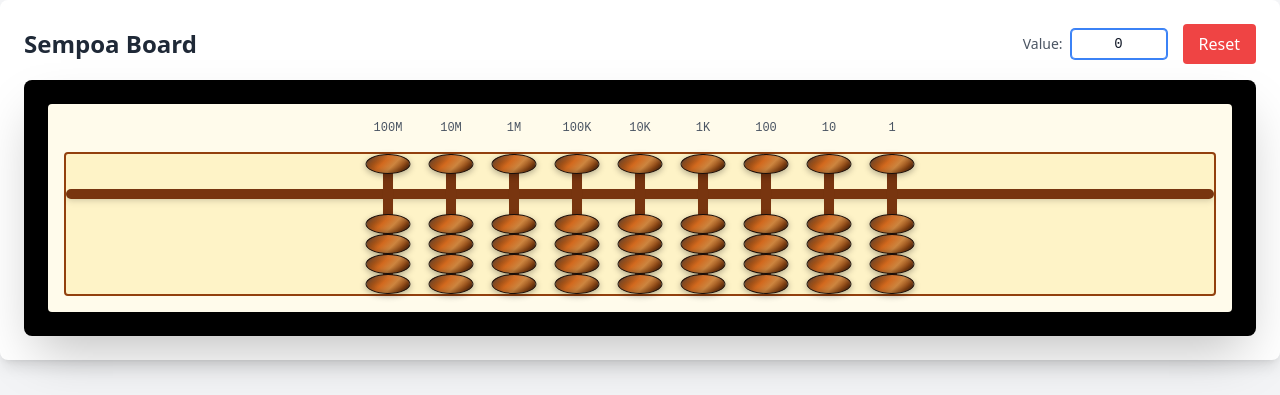
SempoaBoard - Abacus Behavior › Lower Beads Behavior › should move together when activating - clicking a bead activates all beads above it
// Reset the board to ensure initial state
What coordinates should you click on to do the following:
click the button "Reset"
I would click on:
 (1219, 44)
Its box is [1182,24,1256,64].
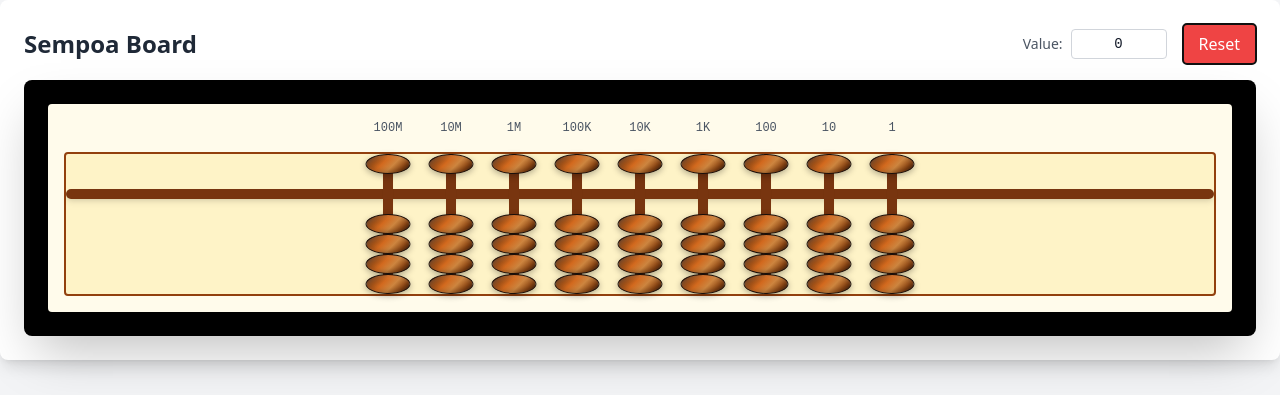
// Click on the 3rd lower bead (index 2, should activate beads 0, 1, 2)
What coordinates should you click on to do the following:
click the button named "Bead in column 1, row 3, inactive"
I would click on:
 (388, 264)
Its box is [366,254,410,274].
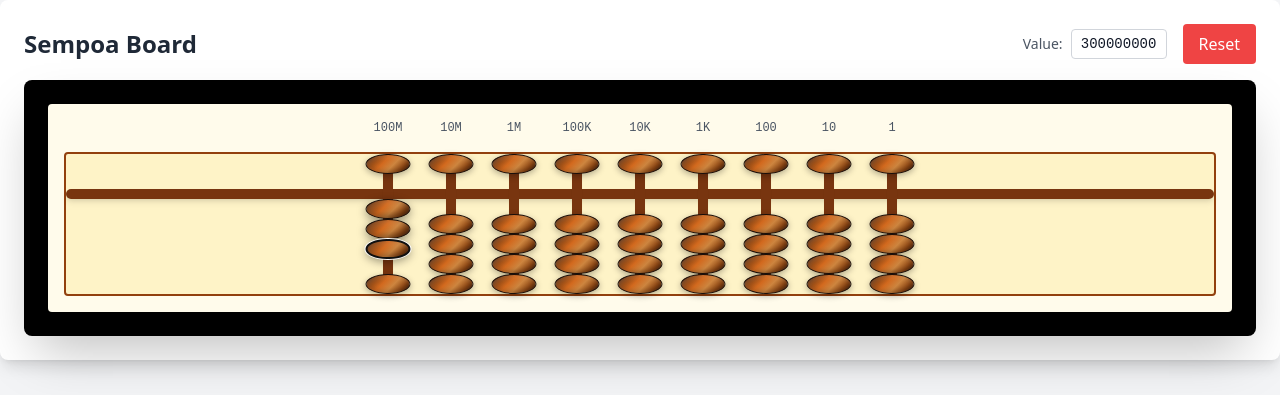
Check: the field with test id "keyboard-input-field" holds "300000000", box [1070,29,1166,59]
